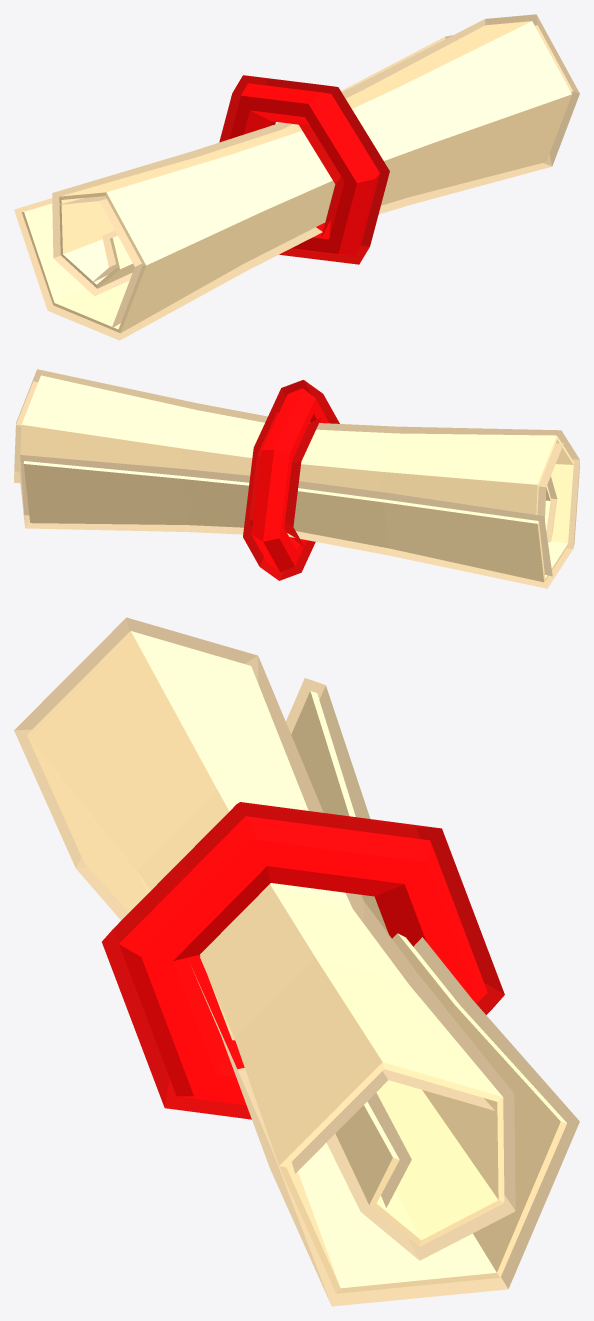
Rendered from scroll8.glb.
3 renders of one model, top to bottom at view 1: azimuth 30°, elevation 25°; view 2: azimuth 150°, elevation 25°; view 3: azimuth 270°, elevation 25°, orthographic. The views are drawn at different scales.
Visible parts, largest first — view 1: Scroll.007, PaperToon.008; view 2: Scroll.007, PaperToon.008; view 3: Scroll.007, PaperToon.008.
Part boxes in pixels (<box>): Scroll.007: <box>21,21,571,333</box>; PaperToon.008: <box>14,14,579,340</box>; Scroll.007: <box>20,375,574,582</box>; PaperToon.008: <box>14,369,579,588</box>; Scroll.007: <box>27,631,566,1293</box>; PaperToon.008: <box>14,617,579,1306</box>.
Bounding box in the file's own units: 0.3312 × 0.1114 × 0.1678.
Materials: 2 (2 with a texture image).
